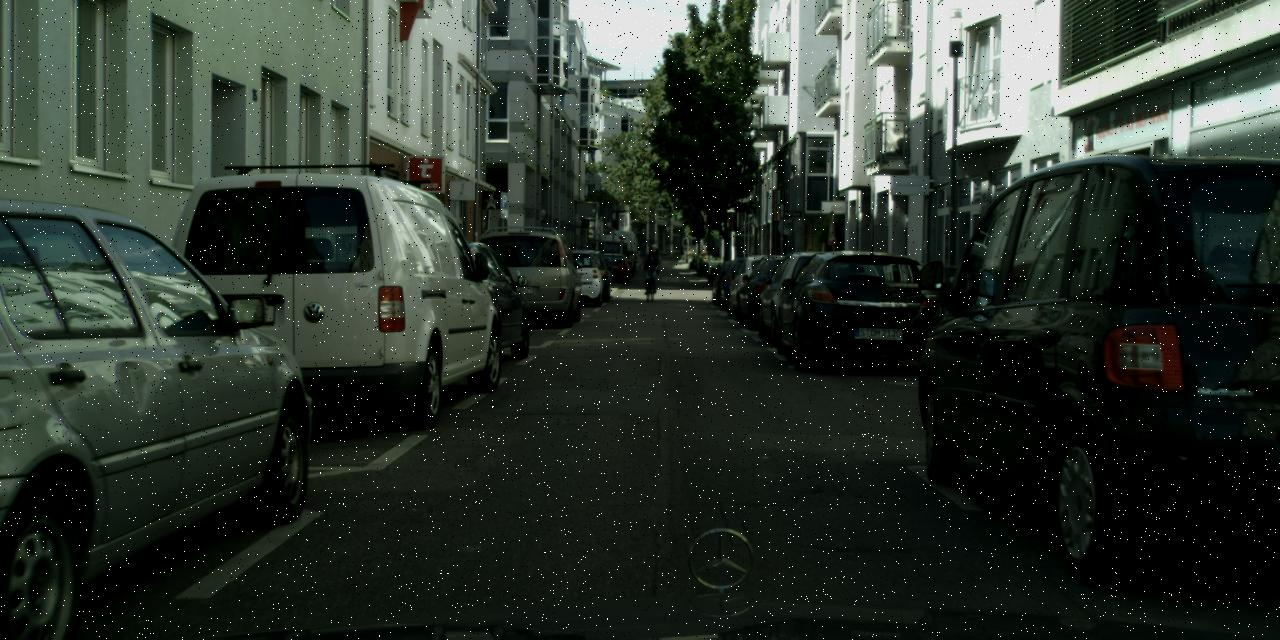ped: (641, 244, 661, 294)
